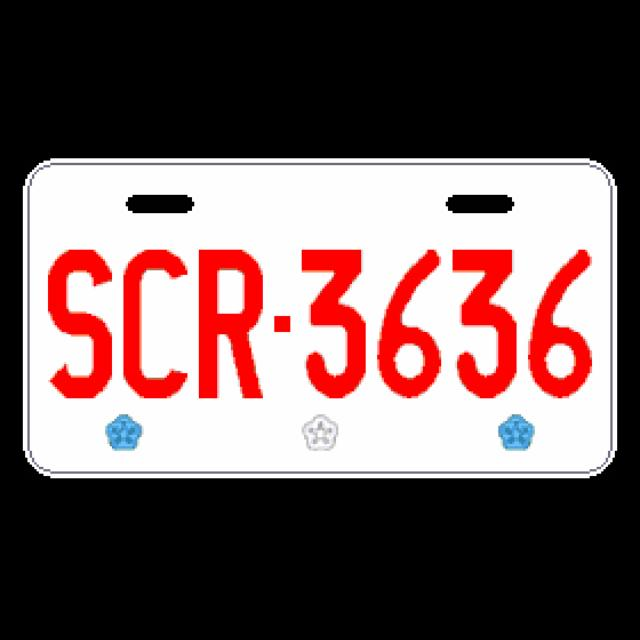plate: (20, 156, 620, 480)
